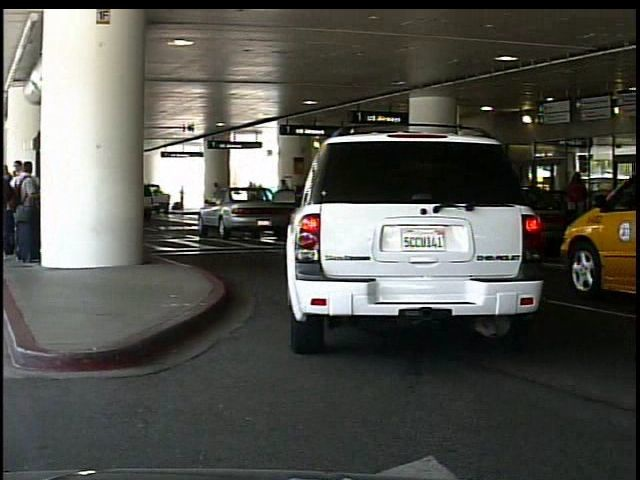person: (562, 168, 593, 254), (213, 177, 227, 211), (180, 184, 188, 211)
